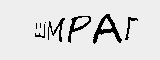А: (10, 24, 28, 43)
Е: (132, 24, 151, 47)
К: (29, 24, 50, 45)
Л: (106, 27, 132, 50)
Ю: (51, 24, 78, 45)
Ә: (80, 25, 104, 50)
